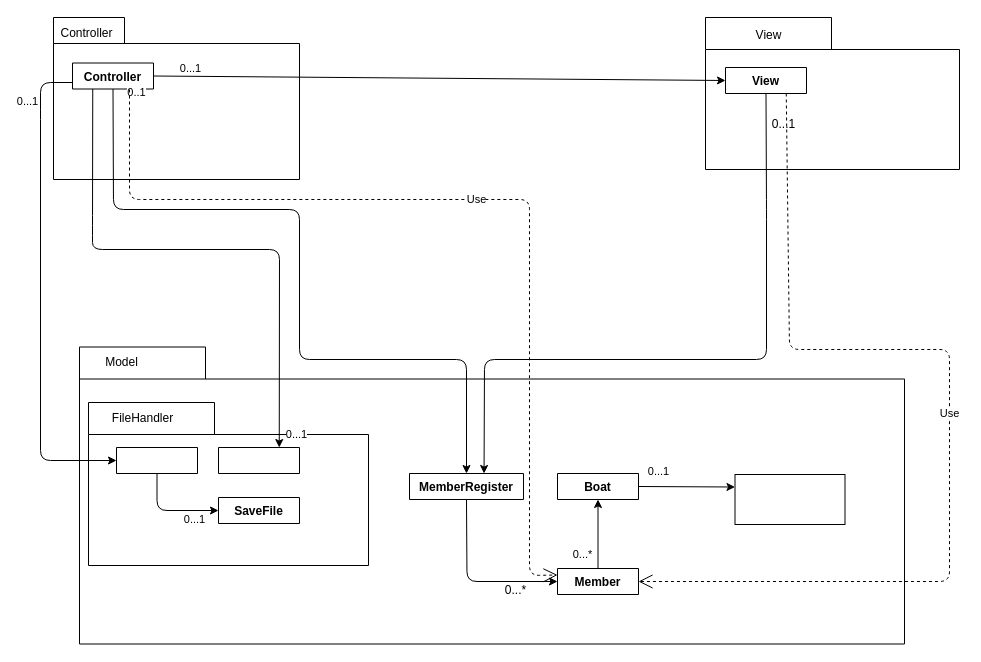
Some shapes in this 981 by 662 pixel diagram are drawn without their labels. Here are the shapes that lost their labels. From the top down, the box of each, then its label:
(116, 446, 198, 474): CreateFile
(218, 446, 300, 474): InitFile
(734, 474, 845, 524): «ENUM» BoatTypes
